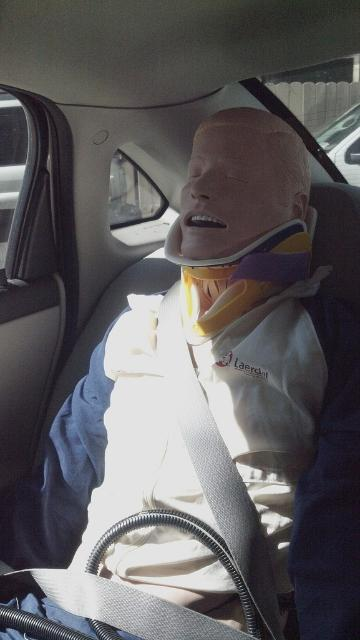Seatbelt: (157, 281, 283, 639)
